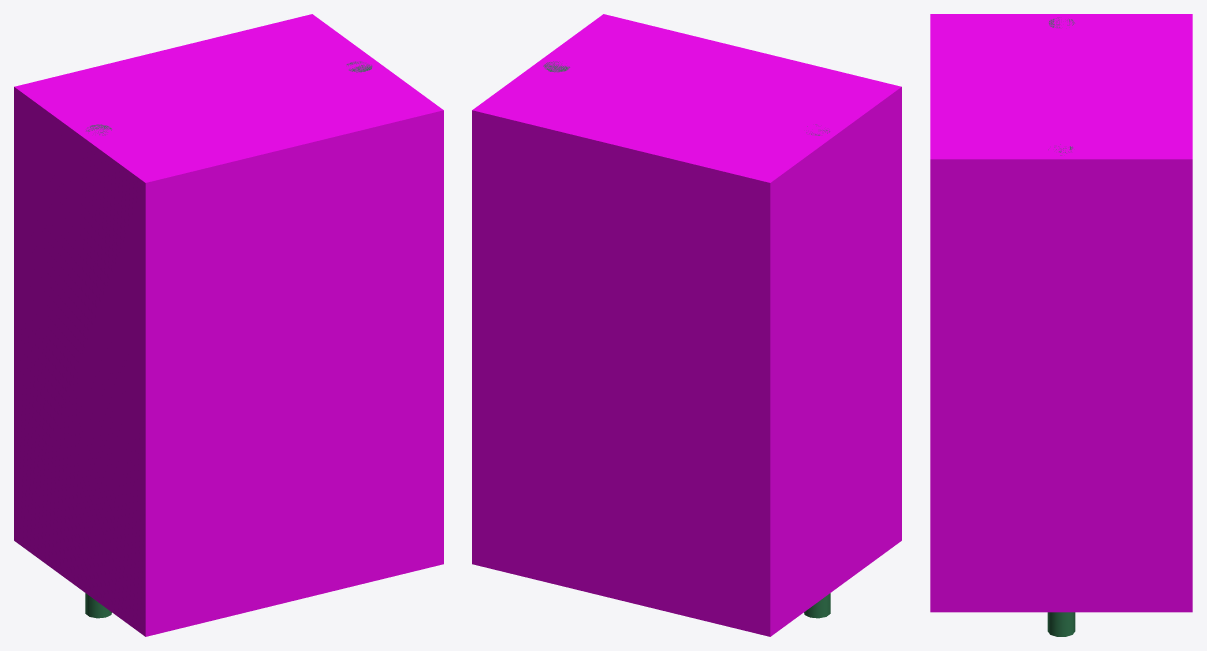
Rendered from EN_Yard_Bin.fbx.
The picture shows the model from 3 angles, left to right: view 1: azimuth 30°, elevation 25°; view 2: azimuth 150°, elevation 25°; view 3: azimuth 270°, elevation 25°; orthographic projection.
Parts seen in each view (by area): view 1: COL_Body, EN_Yard_Bin_Mesh; view 2: COL_Body, EN_Yard_Bin_Mesh; view 3: COL_Body, EN_Yard_Bin_Mesh.
Part boxes in pixels (x1,y1,x2,y2): COL_Body: (14,14,443,636); EN_Yard_Bin_Mesh: (85,61,372,618); COL_Body: (472,14,901,636); EN_Yard_Bin_Mesh: (543,61,830,618); COL_Body: (930,14,1192,612); EN_Yard_Bin_Mesh: (1047,17,1075,636).
Bounding box in the file's own units: 0.55 × 0.85 × 0.42.
